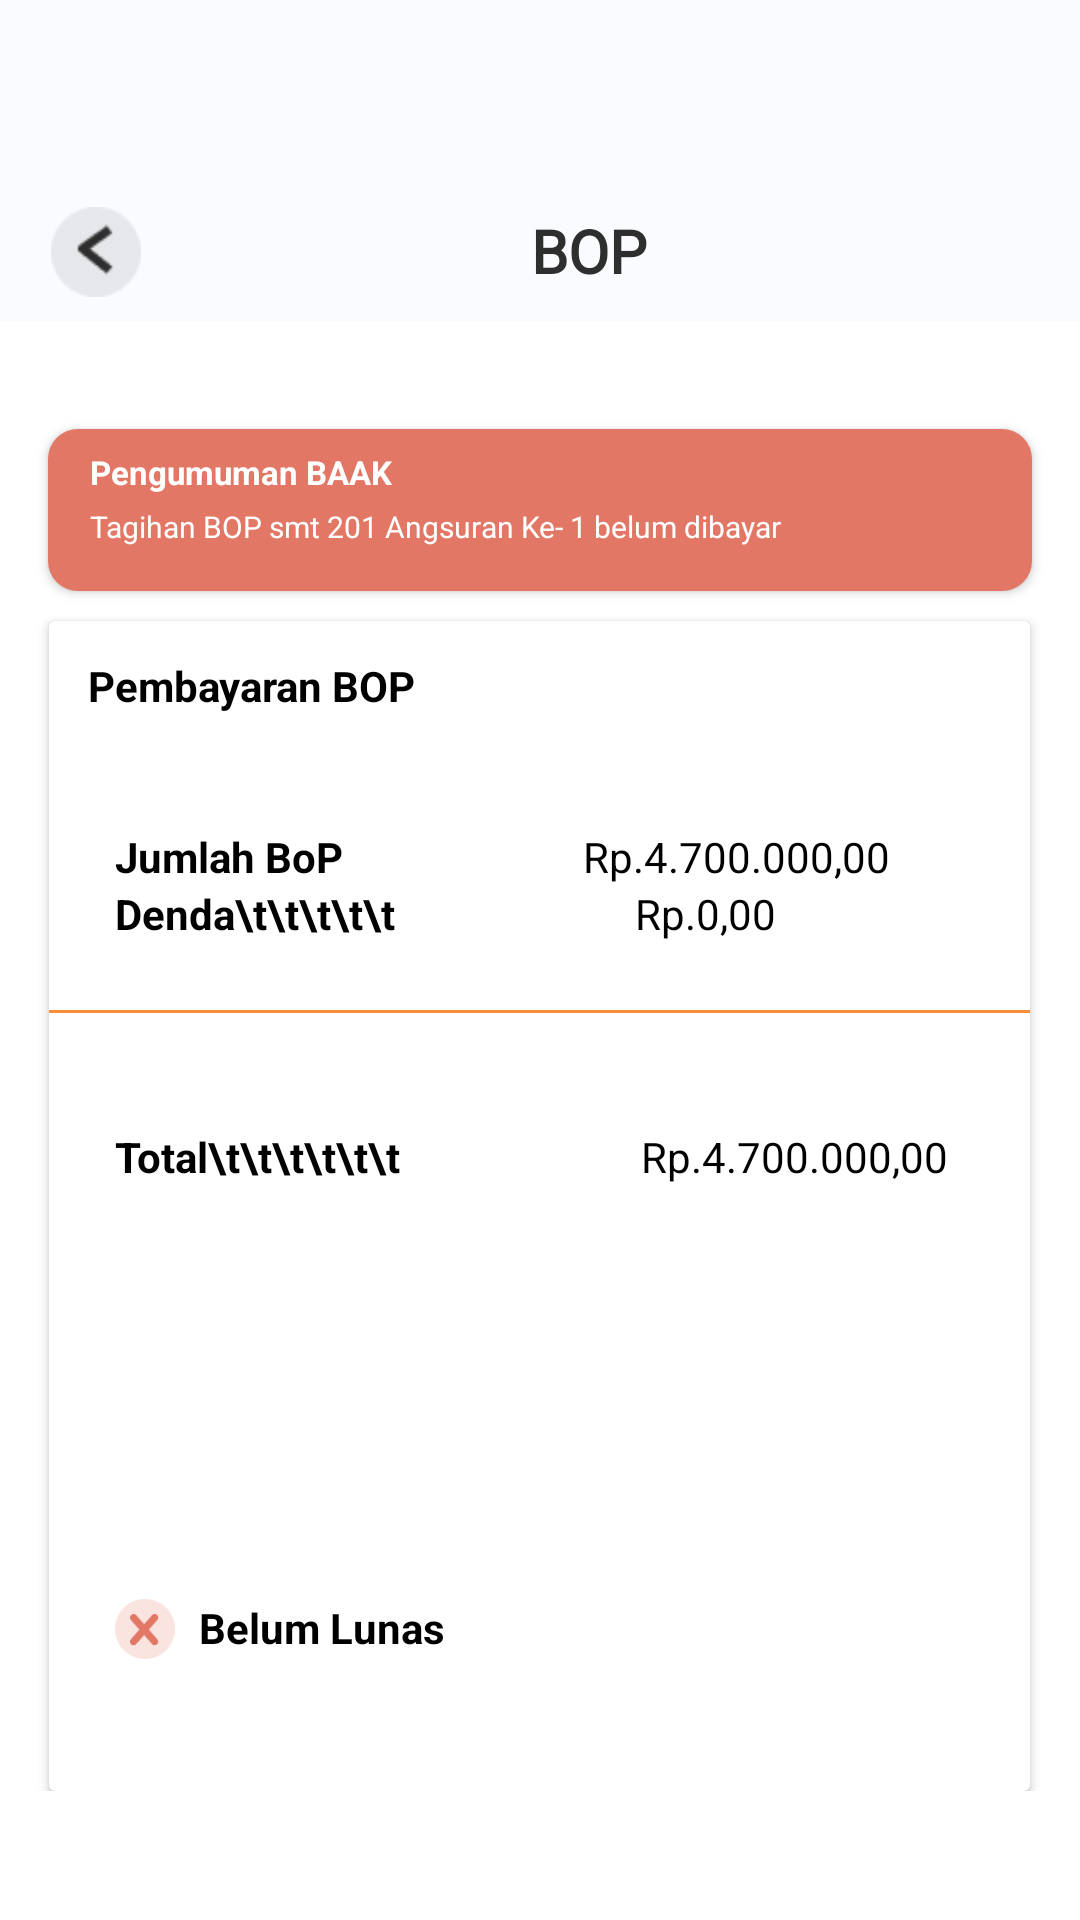

Screen size 1080px×1920px. Icon name, then its center in pixels as (x,y):
back: (96,252)
